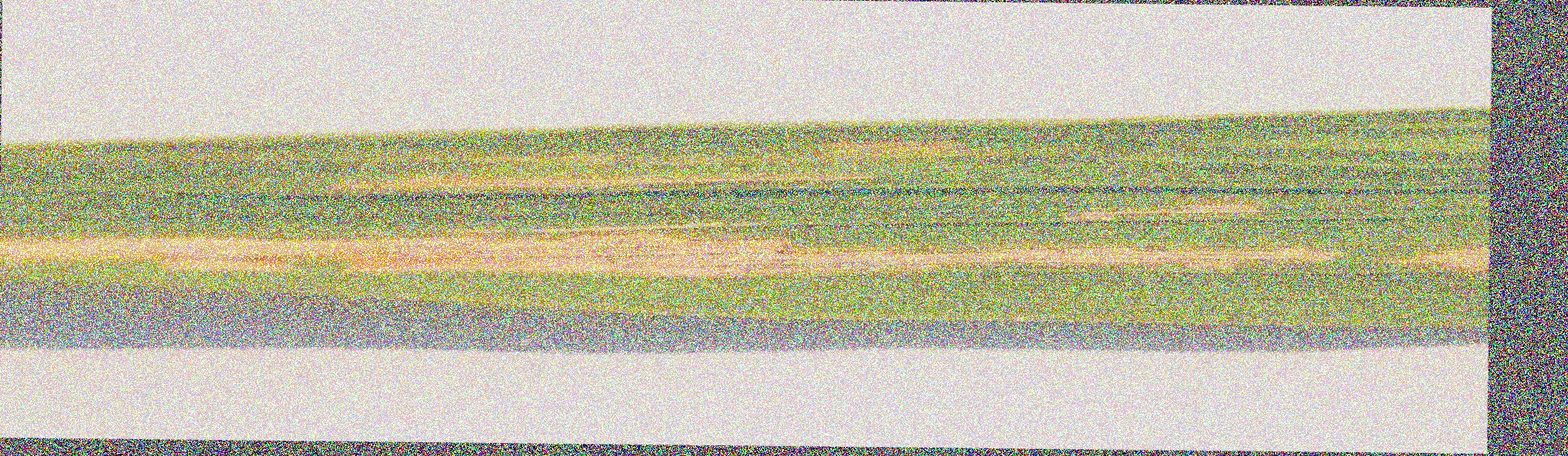Leaf_Blast: (310, 109, 1324, 240), (0, 213, 1489, 291)
